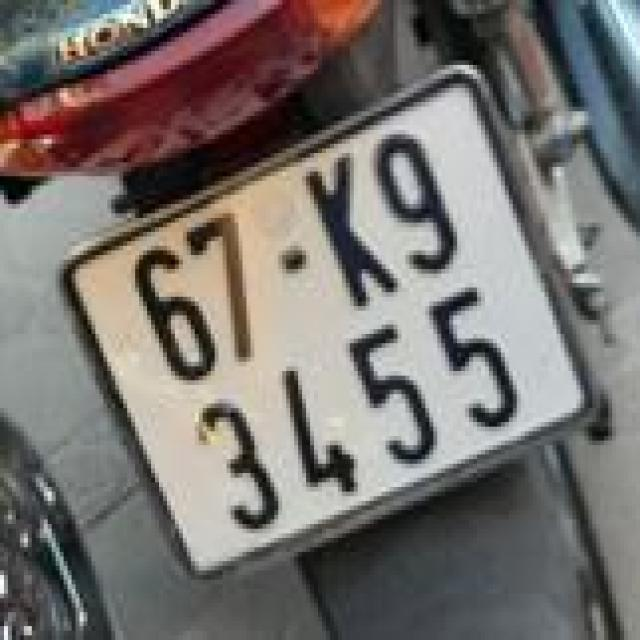3: (179, 384, 294, 546)
4: (265, 348, 373, 508)
5: (416, 273, 534, 442), (337, 310, 451, 483)
6: (120, 234, 228, 396)
7: (176, 202, 274, 375)
9: (360, 111, 476, 289)
K: (290, 139, 407, 323)
